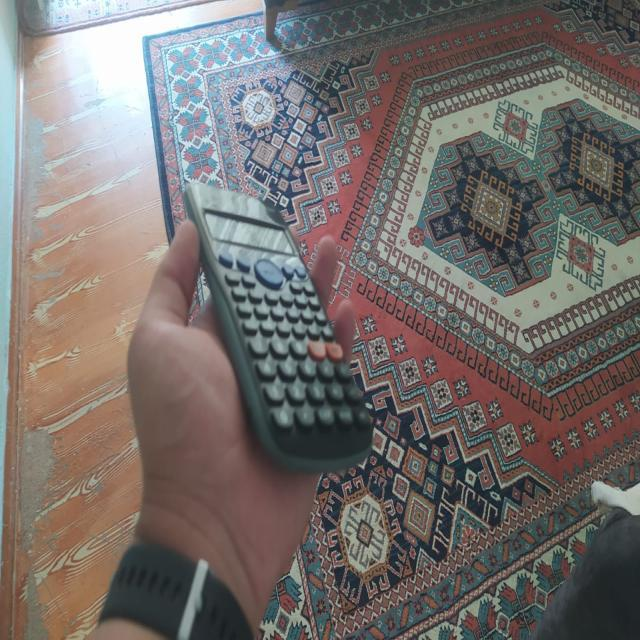Calculator: (184, 176, 378, 474)
